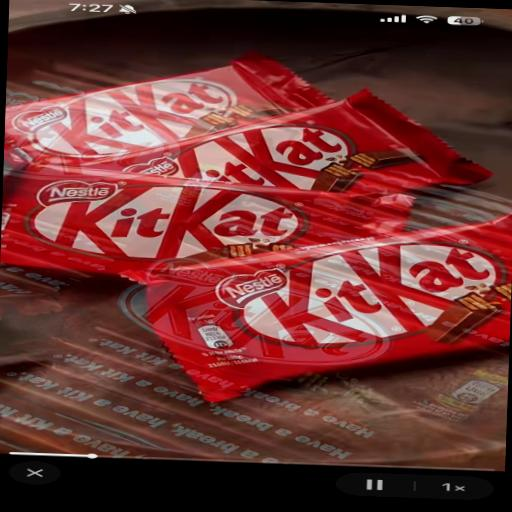kitkat: (94, 231, 512, 410), (11, 25, 308, 147)
